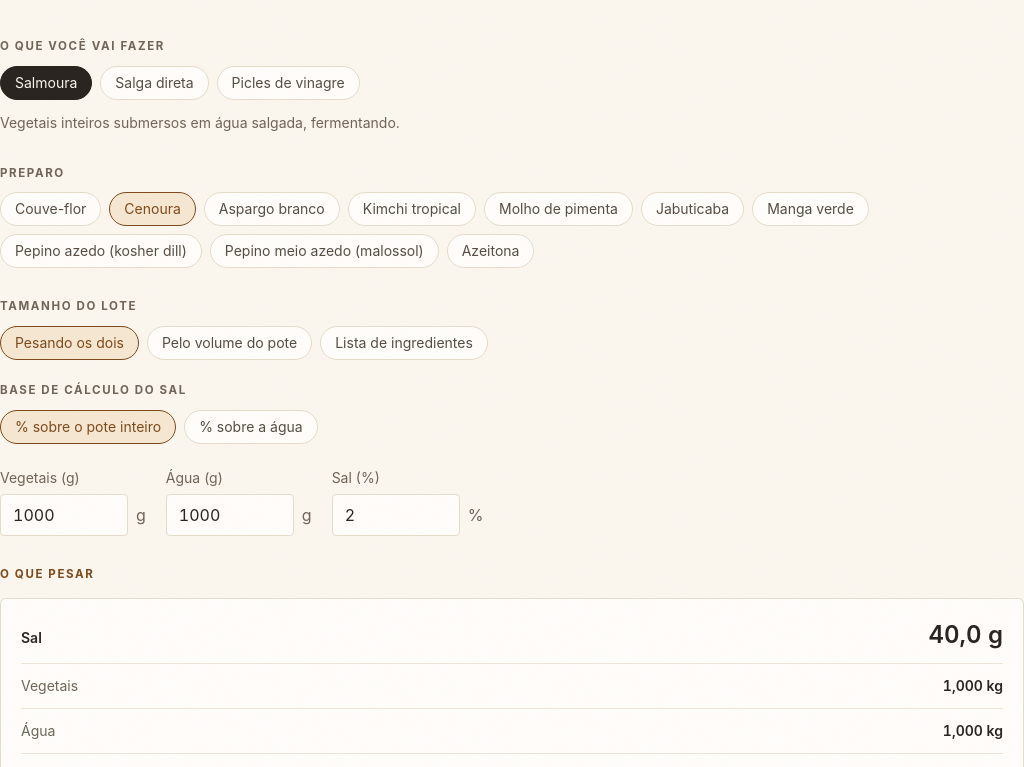
Test case: calculadora de picles › aprova a proporção 1:1 do picles de vinagre
Click the button "Picles de vinagre".
click(288, 83)  # box [217, 66, 360, 100]
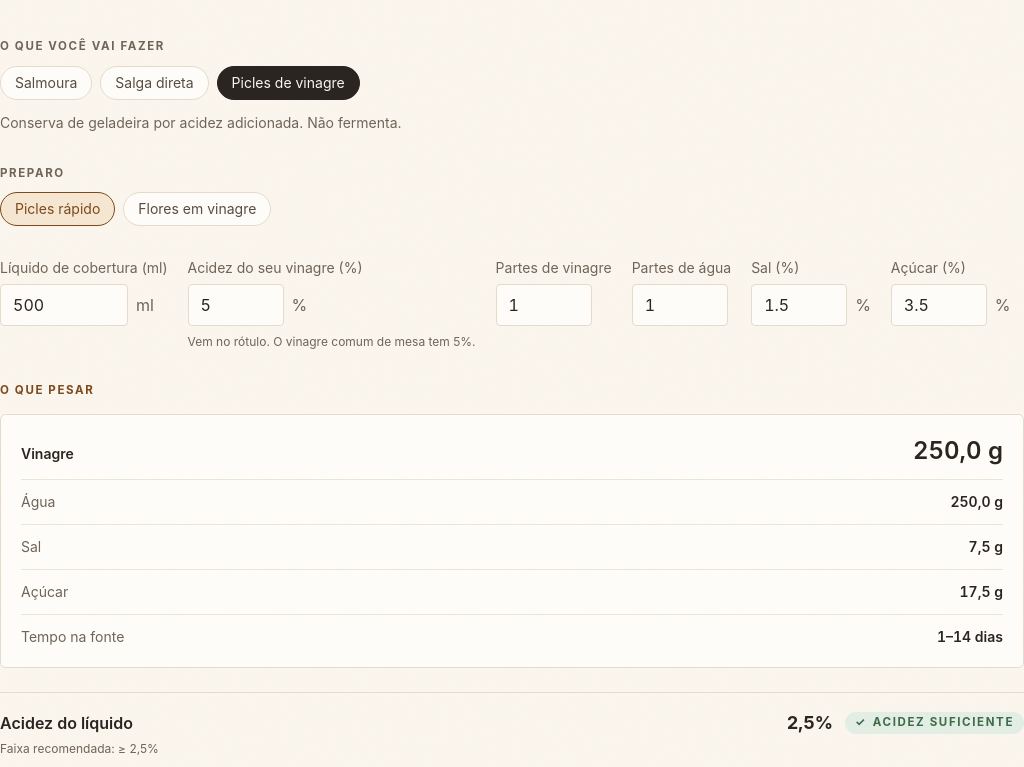
Check: the text "Acidez suficiente" is shown, box [873, 715, 1014, 729]
